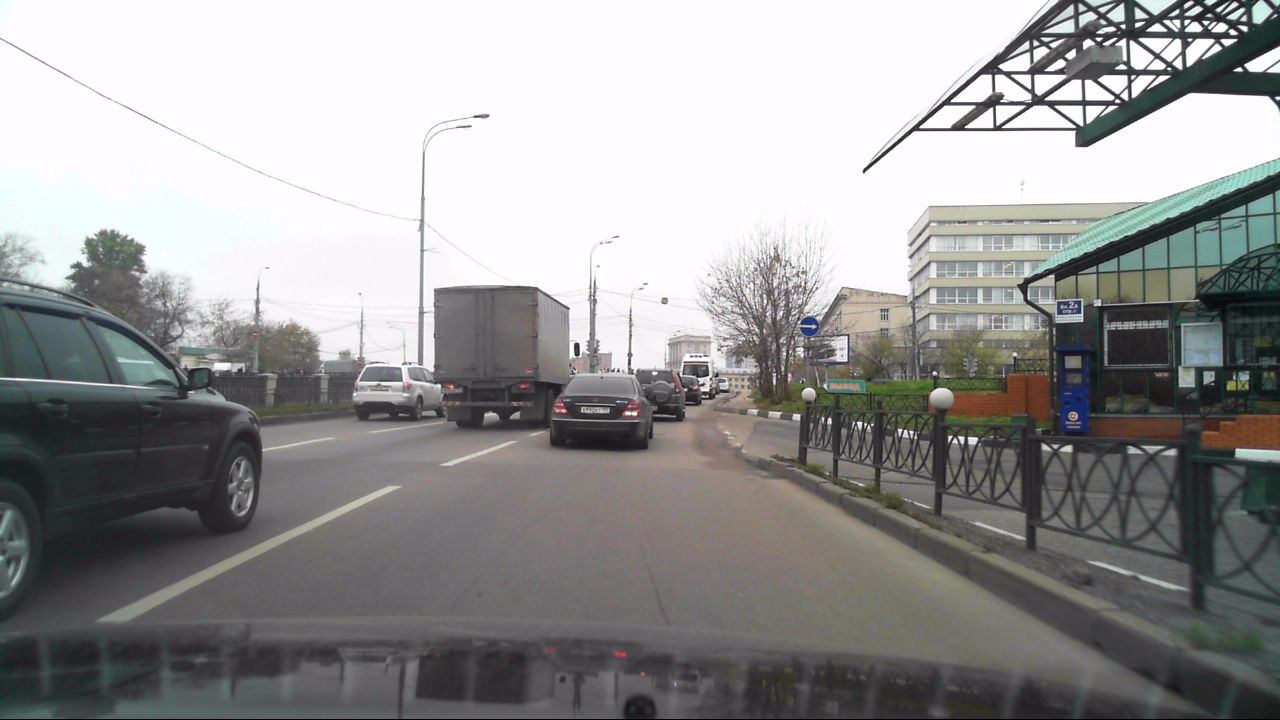Turn Right: (800, 317, 820, 336)
